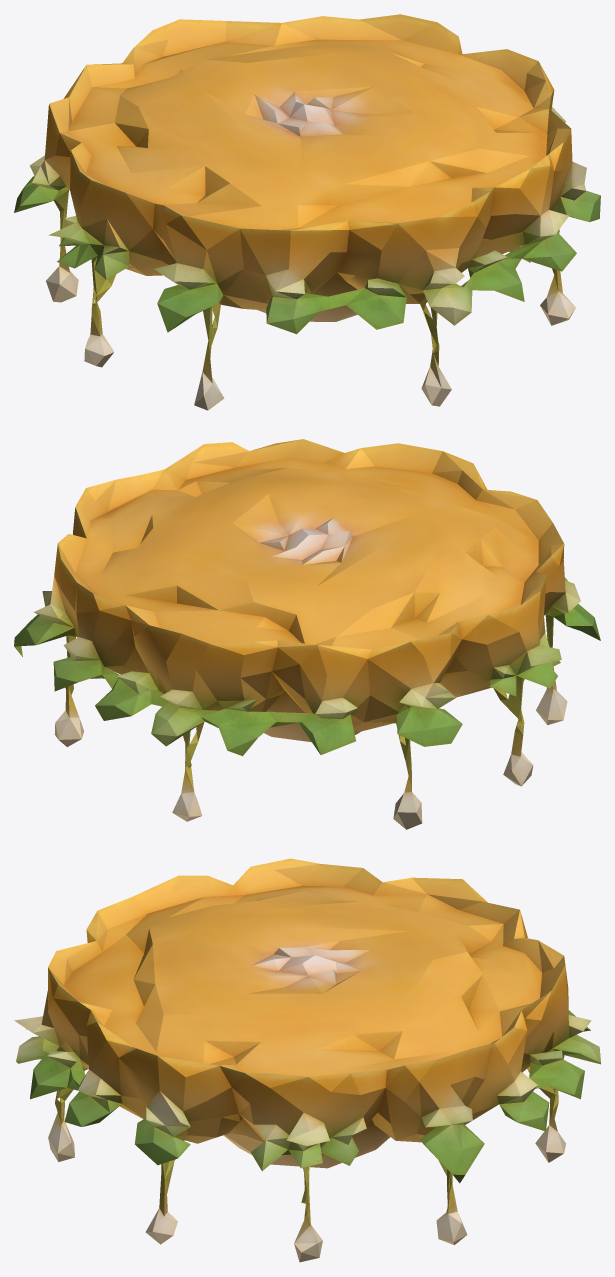
3 views of the same model, one above another, from view 1: azimuth 30°, elevation 25°; view 2: azimuth 150°, elevation 25°; view 3: azimuth 270°, elevation 25° (orthographic). The views are drawn at different scales.
Parts seen in each view (by area): view 1: model; view 2: model; view 3: model.
Boxes of the visible parts, x1,y1,x2,y2 form: model: [14, 14, 600, 410]; model: [14, 439, 600, 829]; model: [14, 858, 600, 1262].
Size of the model in its own units: 178 by 69.53 by 180.
1 material, 1 textured.
